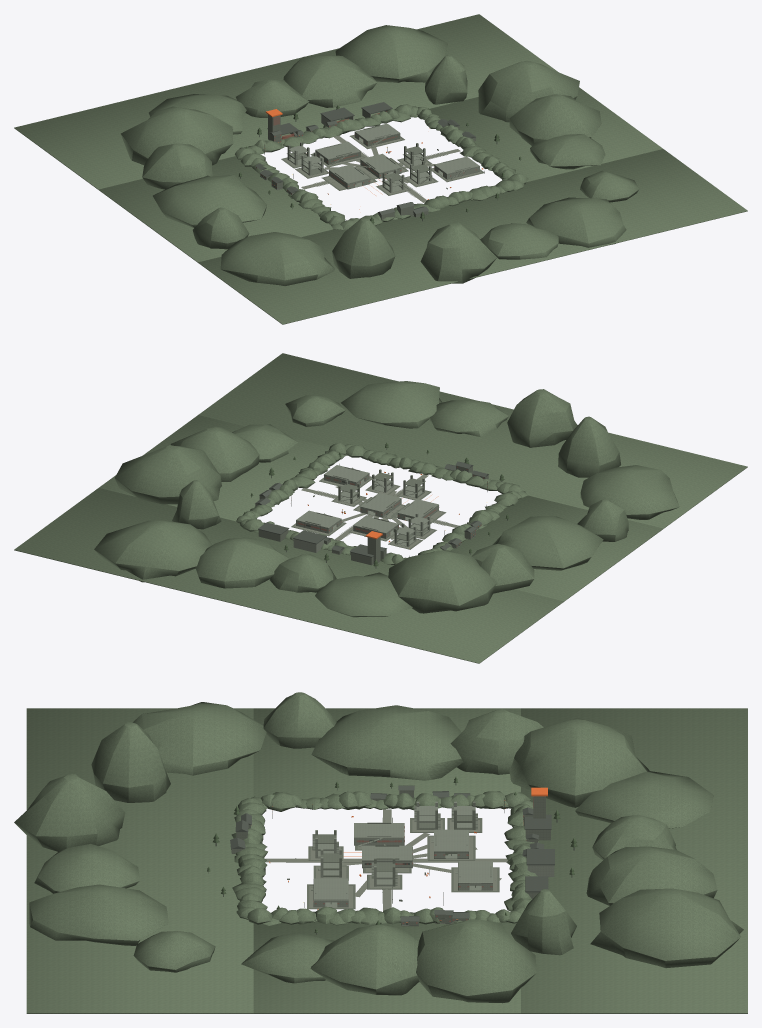
The model's file is renshujo-lod1.glb.
The picture shows the model from 3 angles, top to bottom: view 1: azimuth 30°, elevation 25°; view 2: azimuth 150°, elevation 25°; view 3: azimuth 270°, elevation 25°; orthographic projection. The views are drawn at different scales.
Visible parts, largest first — view 1: HB_renshujo_LOD1_terrain, HB_renshujo_LOD1_wall, HB_renshujo_LOD1_wall_alt, HB_renshujo_LOD1_road, HB_renshujo_LOD1_trim; view 2: HB_renshujo_LOD1_terrain, HB_renshujo_LOD1_wall, HB_renshujo_LOD1_wall_alt, HB_renshujo_LOD1_road, HB_renshujo_LOD1_trim; view 3: HB_renshujo_LOD1_terrain, HB_renshujo_LOD1_wall, HB_renshujo_LOD1_wall_alt, HB_renshujo_LOD1_road, HB_renshujo_LOD1_trim.
Boxes of the visible parts, box(x1,y1,x2,y2) form: HB_renshujo_LOD1_terrain: box(14, 14, 747, 324); HB_renshujo_LOD1_wall: box(287, 115, 479, 192); HB_renshujo_LOD1_wall_alt: box(256, 109, 483, 220); HB_renshujo_LOD1_road: box(281, 135, 484, 202); HB_renshujo_LOD1_trim: box(240, 102, 520, 221); HB_renshujo_LOD1_terrain: box(14, 353, 747, 663); HB_renshujo_LOD1_wall: box(293, 465, 438, 552); HB_renshujo_LOD1_wall_alt: box(255, 465, 488, 565); HB_renshujo_LOD1_road: box(291, 474, 459, 549); HB_renshujo_LOD1_trim: box(251, 448, 507, 568); HB_renshujo_LOD1_terrain: box(14, 692, 747, 1013); HB_renshujo_LOD1_wall: box(287, 801, 554, 907); HB_renshujo_LOD1_wall_alt: box(230, 790, 550, 926); HB_renshujo_LOD1_road: box(266, 809, 507, 911); HB_renshujo_LOD1_trim: box(208, 783, 574, 934).
Size of the model in its own units: 540 by 53.97 by 550.
10 materials, 8 textured.
